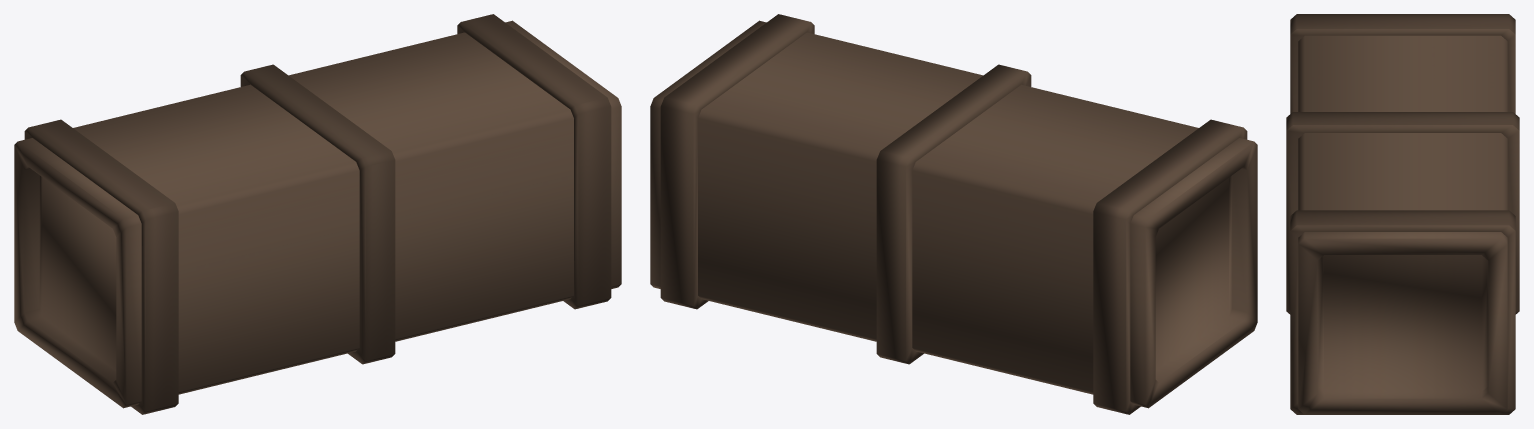
Rendered from BigCrate.fbx.
3 views of the same model, side by side, from view 1: azimuth 30°, elevation 25°; view 2: azimuth 150°, elevation 25°; view 3: azimuth 270°, elevation 25° (orthographic). The views are drawn at different scales.
Visible parts, largest first — view 1: BigCrate; view 2: BigCrate; view 3: BigCrate.
Part boxes in pixels (x1,y1,x2,y2): BigCrate: (14,14,621,414); BigCrate: (650,14,1257,414); BigCrate: (1286,14,1519,414).
Size of the model in its own units: 303 by 121 by 133.
